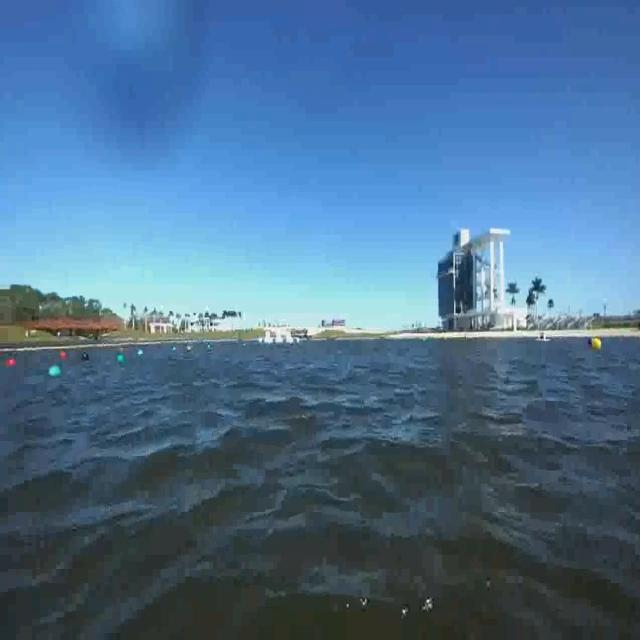black-buoy: (80, 352, 90, 363)
green-buoy: (50, 365, 64, 377)
red-buoy: (6, 358, 16, 367)
yellow-buoy: (593, 337, 603, 352)
